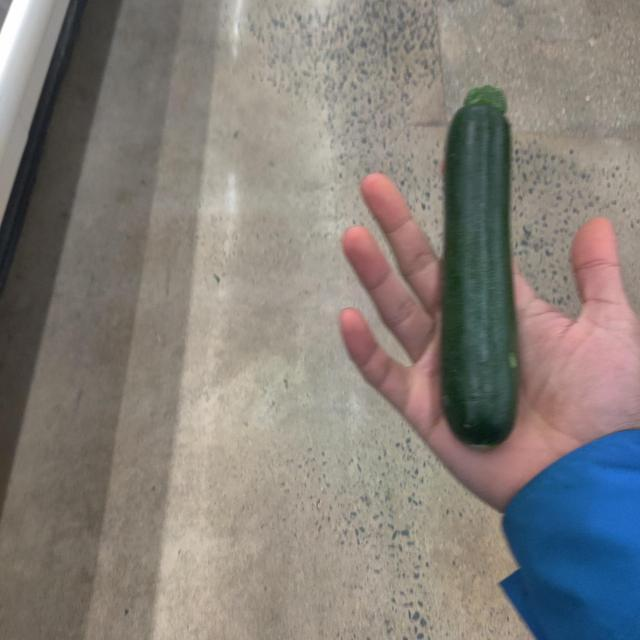Zucchini: (444, 86, 521, 449)
